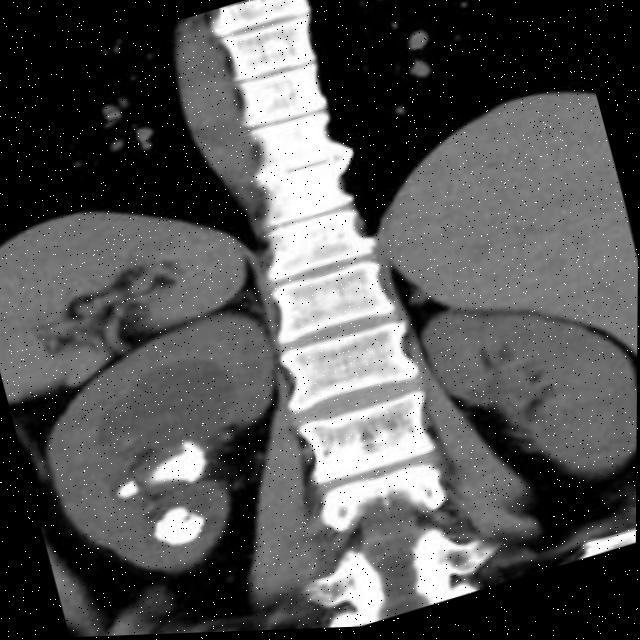Tas_Var: (144, 430, 215, 499), (145, 506, 216, 555), (159, 500, 193, 528), (112, 475, 143, 504)
